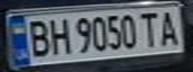0: (118, 11, 139, 48), (90, 14, 109, 52)
5: (106, 12, 124, 52)
9: (72, 14, 93, 54)
A: (154, 8, 184, 47)
B: (21, 17, 54, 59)
H: (45, 16, 72, 56)
T: (136, 9, 163, 48)
